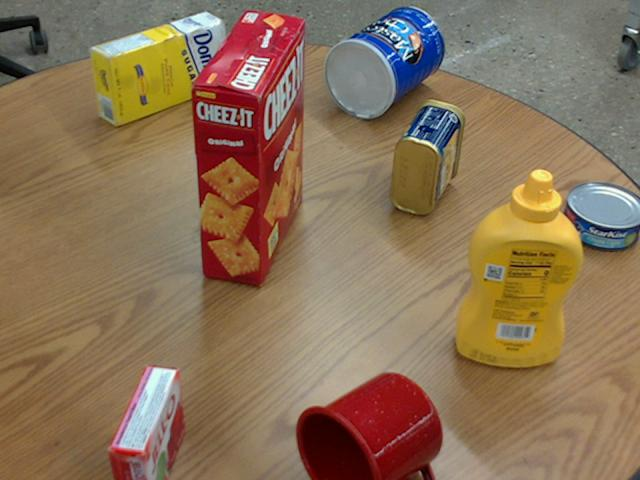cracker_box: (191, 10, 306, 285)
gelatin_box: (102, 365, 180, 479)
master_chef_can: (322, 6, 442, 117)
mug: (292, 373, 441, 479)
mustard_bottle: (454, 169, 580, 366)
potted_meat_can: (390, 99, 463, 213)
sugar_box: (89, 10, 226, 124)
tuna_fish_can: (560, 181, 639, 250)
